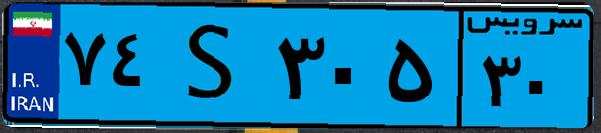0: (330, 28, 385, 110), (525, 38, 570, 115)
3: (270, 28, 330, 110), (475, 38, 525, 113)
4: (110, 28, 158, 98)
5: (385, 28, 445, 110)
7: (57, 26, 110, 100)
S: (158, 12, 270, 120)
